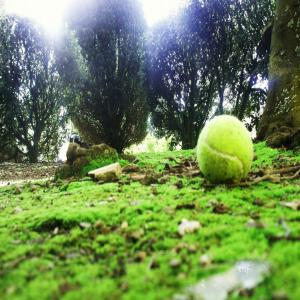TennisBall: (197, 116, 254, 186)
